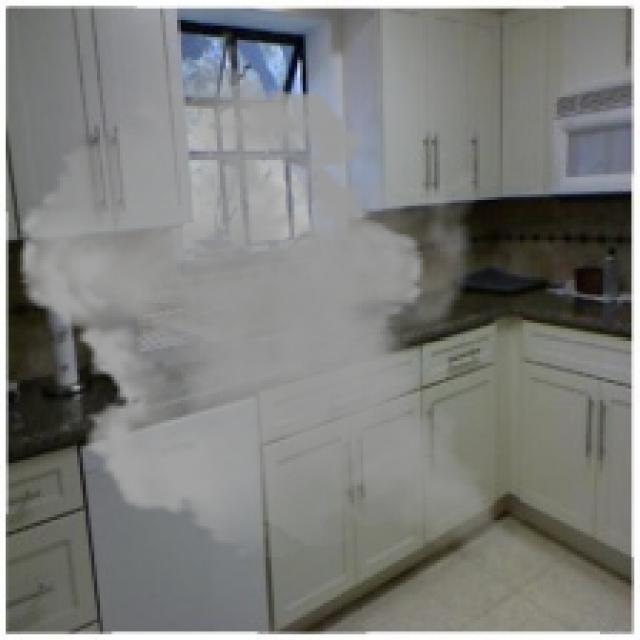Smoke: (2, 29, 568, 578)
